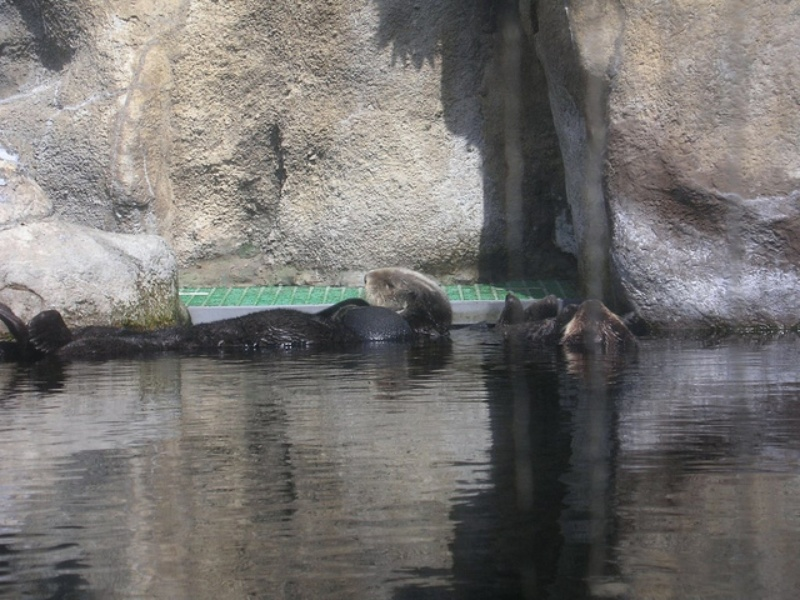minkish: (26, 263, 455, 366), (485, 293, 639, 356)
